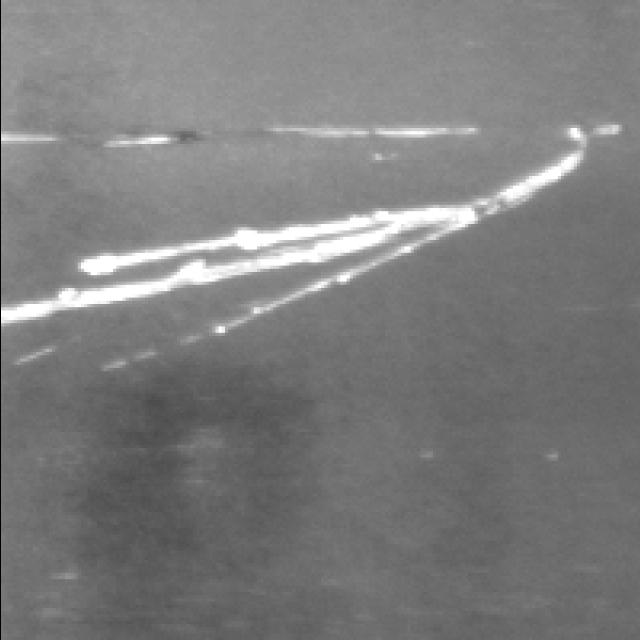scratches: (101, 159, 590, 374), (3, 200, 403, 329), (0, 119, 478, 148)
